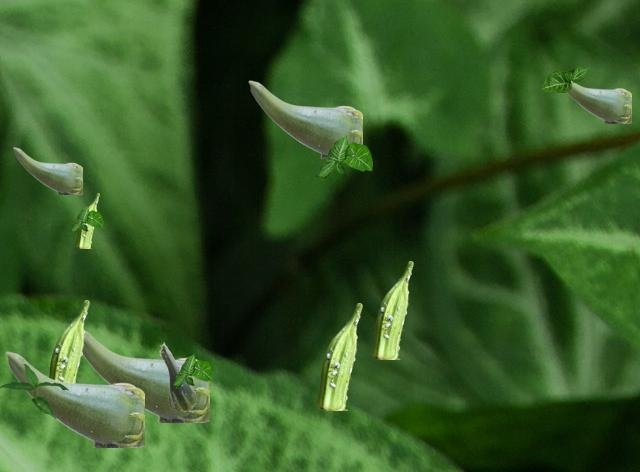okra: (5, 351, 143, 446), (83, 330, 208, 421), (248, 80, 361, 157), (317, 303, 361, 409), (372, 261, 412, 358), (48, 300, 88, 382), (13, 147, 81, 193), (566, 83, 630, 122), (159, 342, 194, 410), (76, 193, 98, 247)
